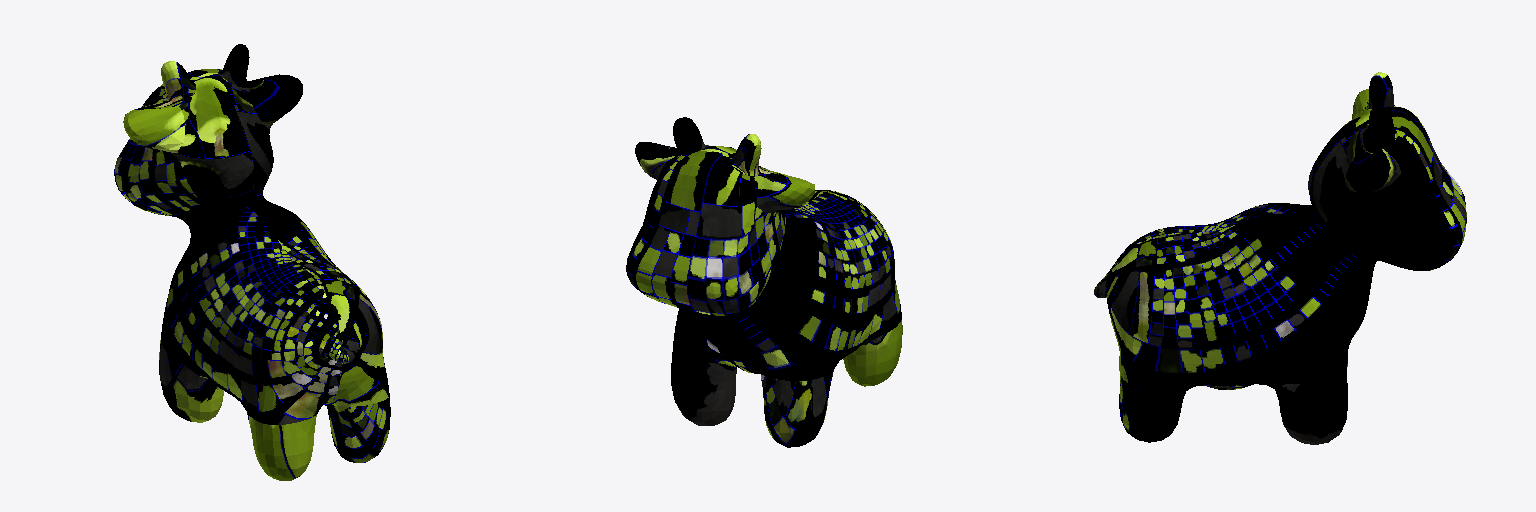
The picture shows the model from 3 angles: view 1: azimuth 30°, elevation 25°; view 2: azimuth 150°, elevation 25°; view 3: azimuth 270°, elevation 25°; orthographic projection.
Bounding box in the file's own units: 0.9431 × 1.69 × 1.72.
Materials: 1 (1 with a texture image).